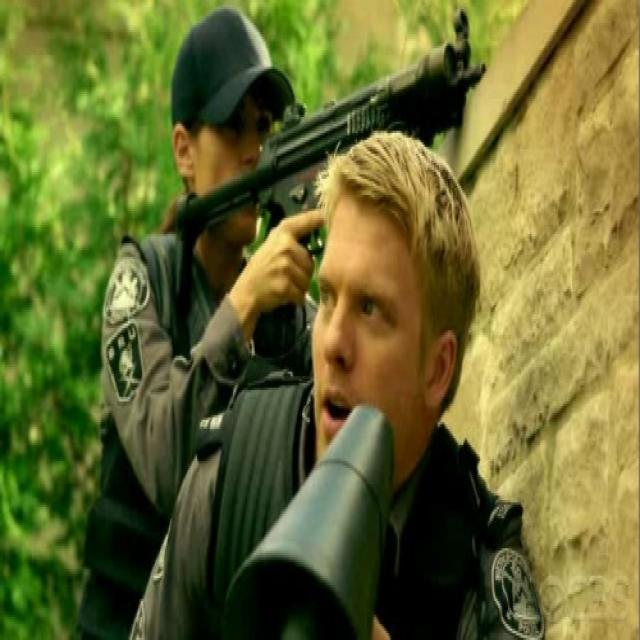rifle: (169, 1, 491, 346)
